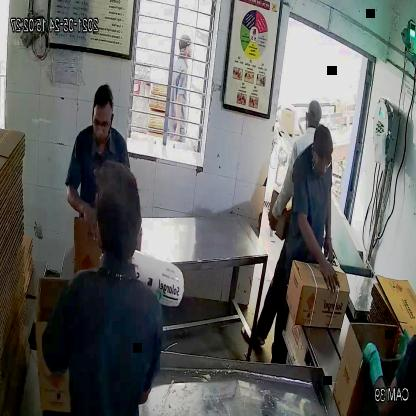goggles: (89, 111, 113, 137), (312, 154, 334, 174)
